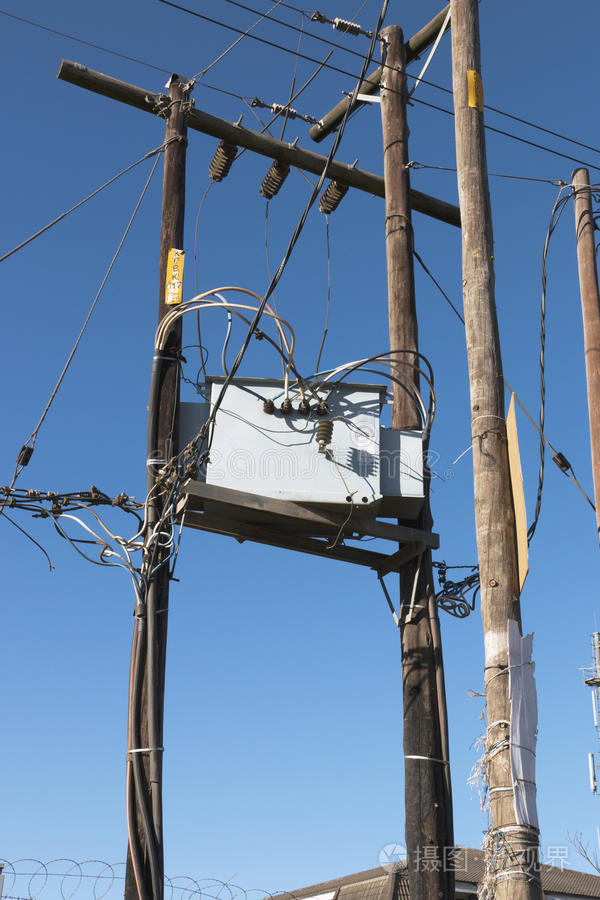insulator: (260, 163, 289, 198), (321, 179, 345, 214), (210, 143, 229, 180), (331, 17, 362, 37)
